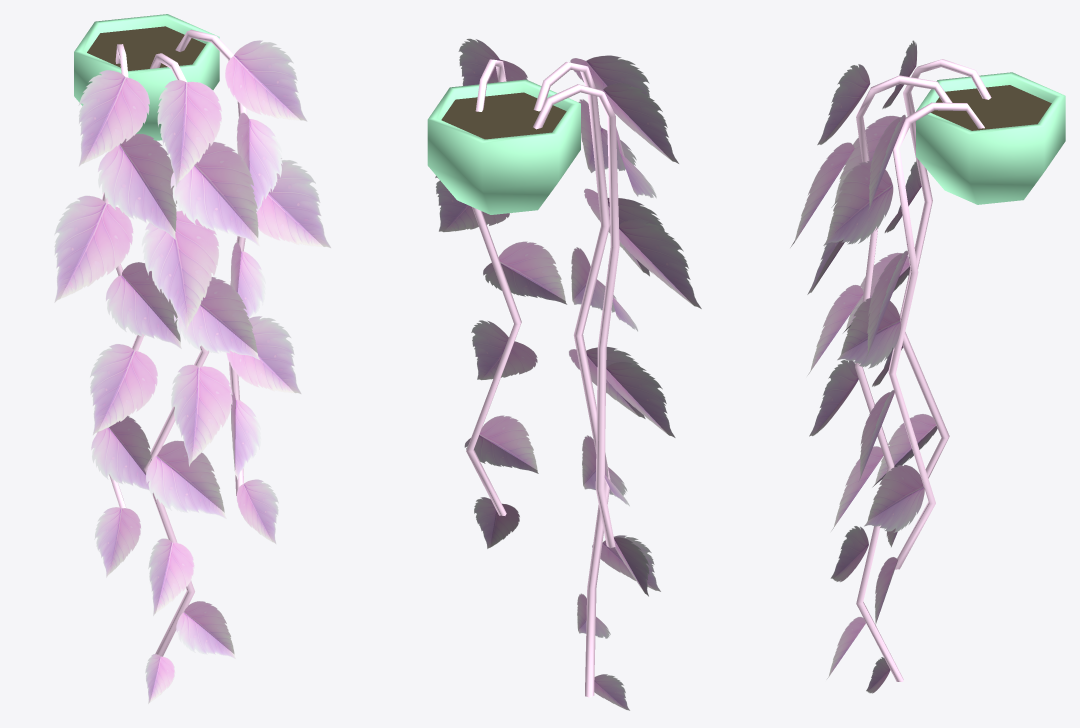
The model's file is PlantHanging1.glb.
3 views of the same model, side by side, from view 1: azimuth 30°, elevation 25°; view 2: azimuth 150°, elevation 25°; view 3: azimuth 270°, elevation 25° (orthographic). The views are drawn at different scales.
Visible parts, largest first — view 1: PantHanging1; view 2: PantHanging1; view 3: PantHanging1.
Boxes of the visible parts, x1,y1,x2,y2 form: PantHanging1: [54, 14, 330, 703]; PantHanging1: [427, 38, 701, 710]; PantHanging1: [790, 40, 1065, 693].
Size of the model in its own units: 0.8388 by 1.54 by 0.6149.
Materials: 2 (2 with a texture image).
